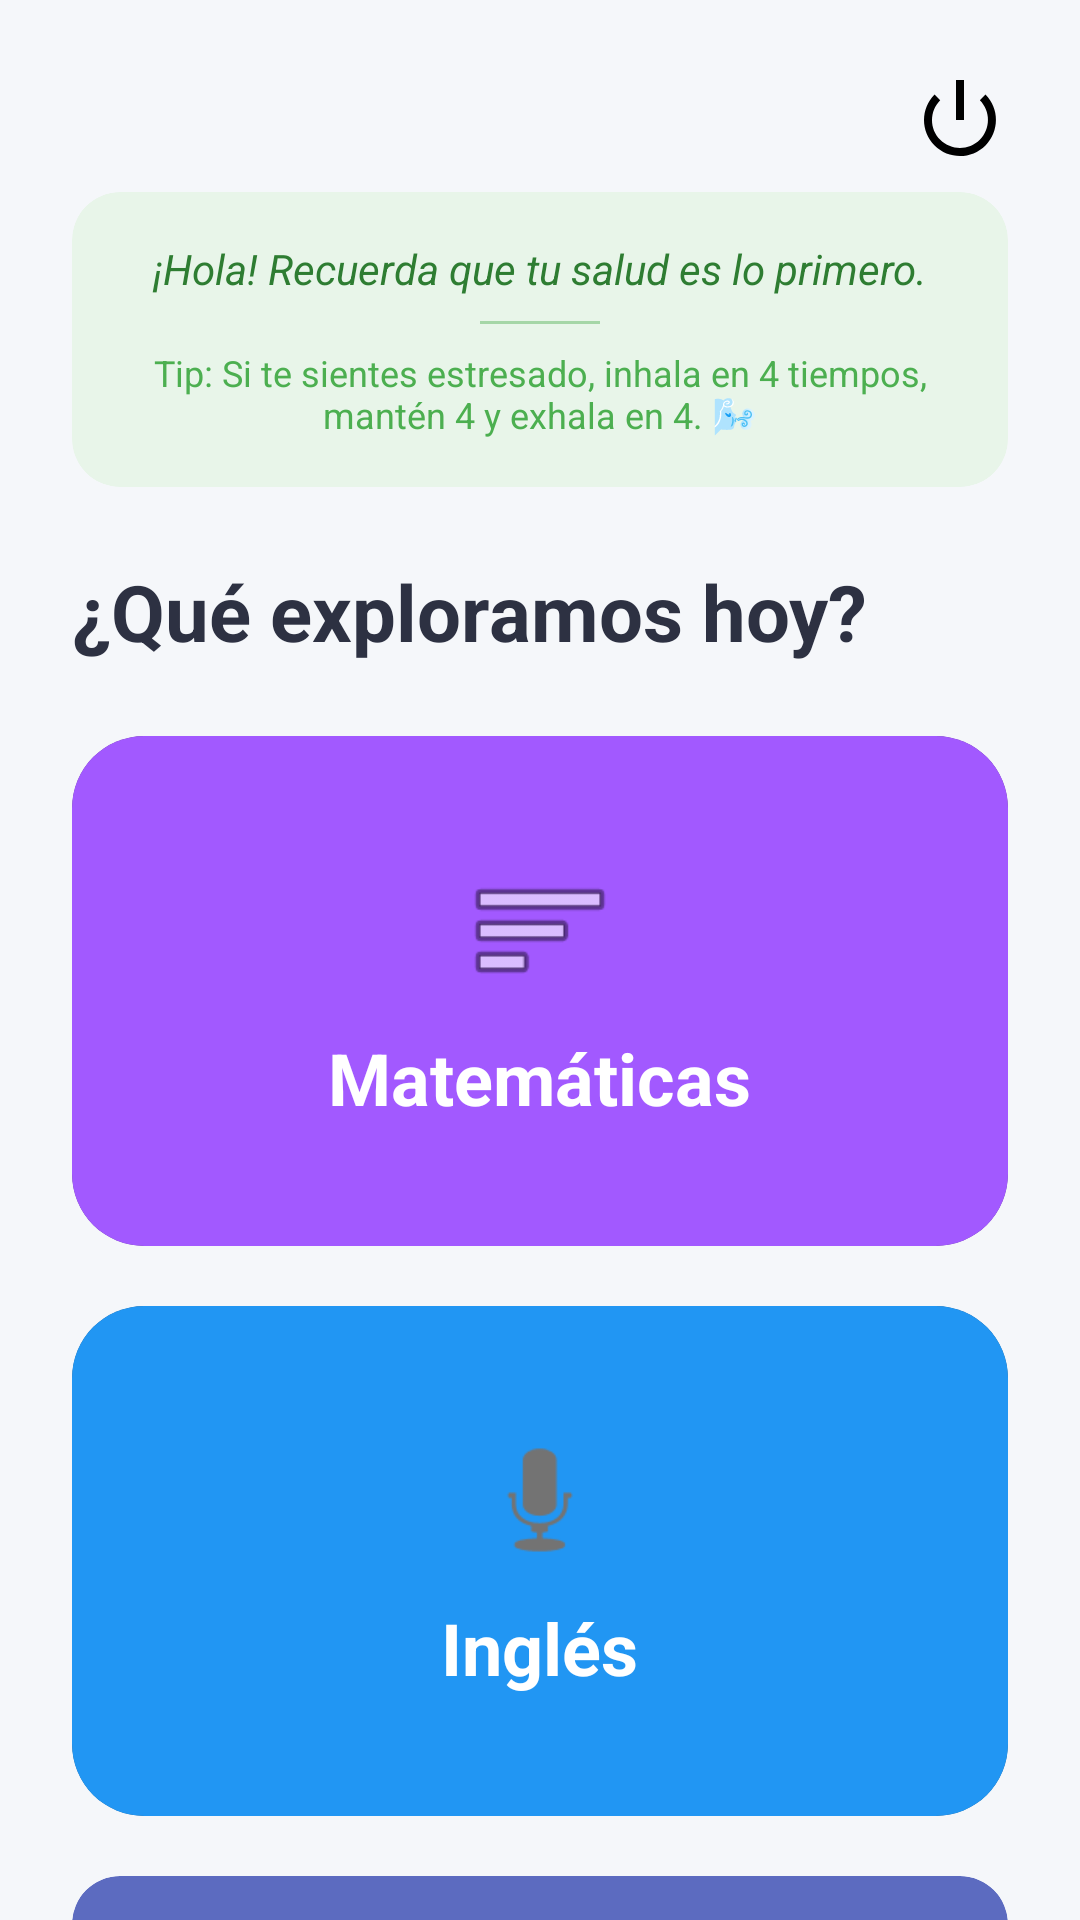

Screen size 1080×1920. Icon name, then its box in pixels as rect(x1, y1, x2, y2):
lock power off: rect(924, 80, 996, 156)
sort by size: rect(475, 889, 605, 973)
speak now: rect(507, 1448, 573, 1552)
